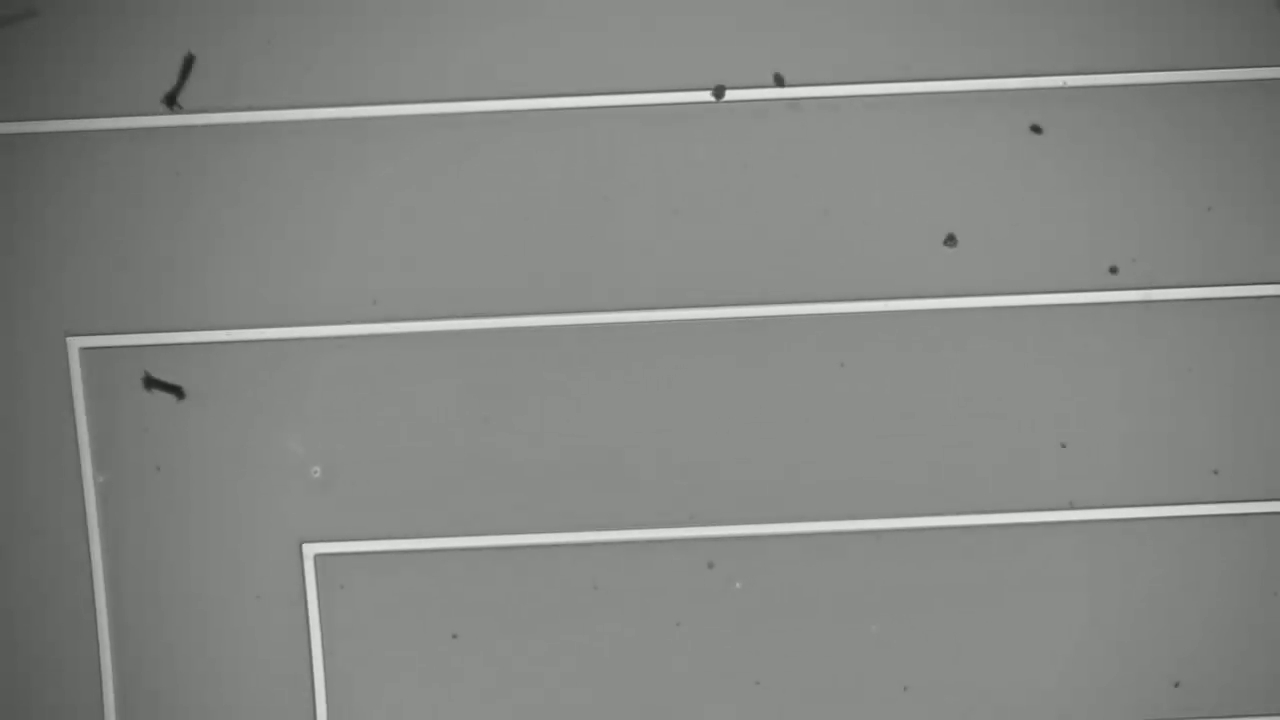stains_enbedded: (704, 77, 734, 112)
